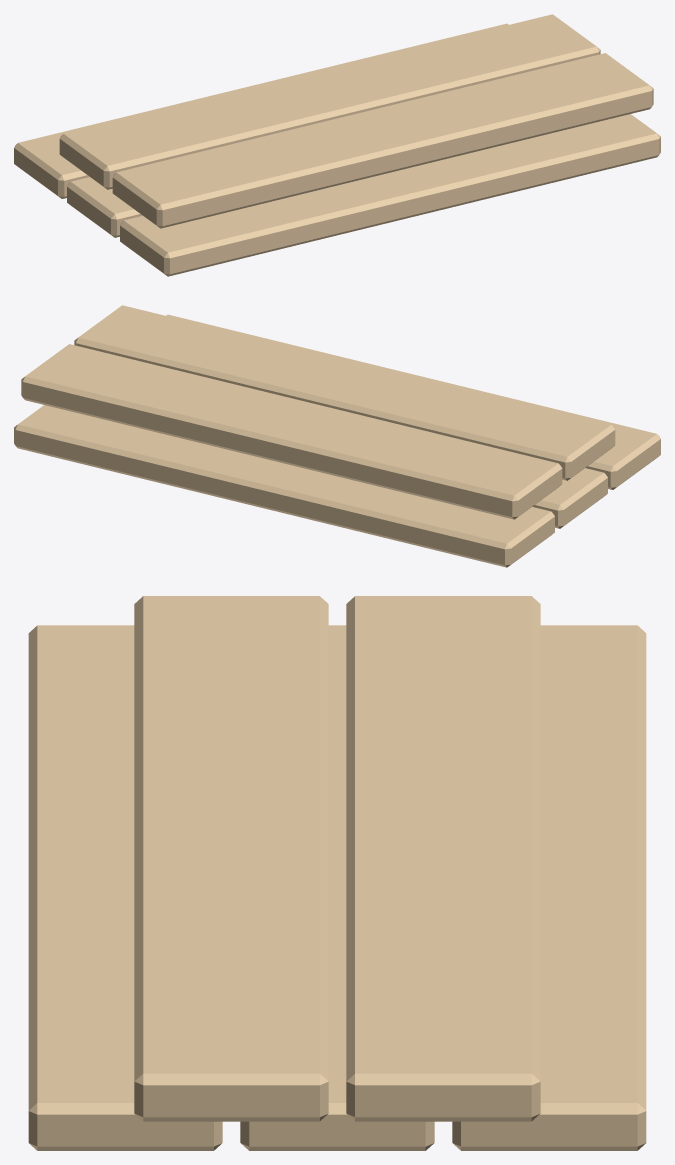
File: PlankPiece.fbx
3 renders of one model, top to bottom at view 1: azimuth 30°, elevation 25°; view 2: azimuth 150°, elevation 25°; view 3: azimuth 270°, elevation 25°, orthographic. The views are drawn at different scales.
Visible parts, largest first — view 1: PlankPiece_Mesh; view 2: PlankPiece_Mesh; view 3: PlankPiece_Mesh.
Part boxes in pixels (box(x1,y1,x2,y2)): PlankPiece_Mesh: box(14, 14, 660, 276); PlankPiece_Mesh: box(14, 305, 660, 567); PlankPiece_Mesh: box(28, 596, 646, 1150).
Size of the model in its own units: 1.35 by 0.12 by 0.7.
